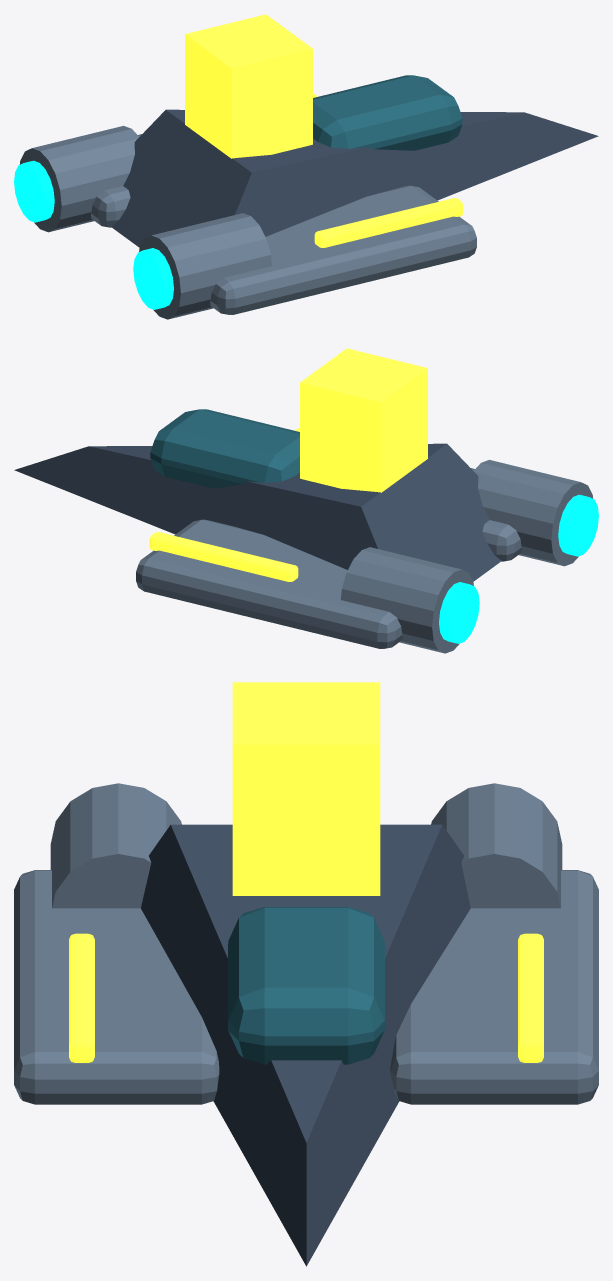
The model's file is ShuttleAmber.fbx.
The picture shows the model from 3 angles, top to bottom: view 1: azimuth 30°, elevation 25°; view 2: azimuth 150°, elevation 25°; view 3: azimuth 270°, elevation 25°; orthographic projection. The views are drawn at different scales.
Visible parts, largest first — view 1: Cargo shuttle hull.002, Cargo crystal.002, Swept wing.004, Cockpit.002, Ion engine.004, Ion engine.005, Cargo stripe.004, Ion exhaust.004, Ion exhaust.005, Swept wing.005; view 2: Cargo shuttle hull.002, Cargo crystal.002, Swept wing.005, Cockpit.002, Ion engine.005, Ion engine.004, Cargo stripe.005, Ion exhaust.005, Ion exhaust.004, Swept wing.004; view 3: Cargo shuttle hull.002, Swept wing.005, Swept wing.004, Cargo crystal.002, Cockpit.002, Ion engine.005, Ion engine.004, Cargo stripe.004, Cargo stripe.005.
Part boxes in pixels (x1,y1,x2,y2): Cargo shuttle hull.002: [111, 109, 598, 247]; Cargo crystal.002: [185, 14, 312, 158]; Swept wing.004: [210, 185, 476, 314]; Cockpit.002: [313, 75, 462, 150]; Ion engine.004: [139, 213, 272, 319]; Ion engine.005: [19, 125, 138, 232]; Cargo stripe.004: [314, 198, 463, 247]; Ion exhaust.004: [133, 248, 173, 309]; Ion exhaust.005: [14, 160, 54, 222]; Swept wing.005: [91, 134, 141, 227]; Cargo shuttle hull.002: [14, 443, 501, 581]; Cargo crystal.002: [300, 348, 427, 492]; Swept wing.005: [136, 519, 402, 648]; Cockpit.002: [150, 409, 299, 488]; Ion engine.005: [340, 547, 473, 653]; Ion engine.004: [474, 459, 593, 566]; Cargo stripe.005: [149, 532, 298, 581]; Ion exhaust.005: [439, 582, 479, 643]; Ion exhaust.004: [558, 494, 598, 556]; Swept wing.004: [471, 468, 521, 561]; Cargo shuttle hull.002: [141, 824, 470, 1266]; Swept wing.005: [390, 870, 598, 1104]; Swept wing.004: [14, 870, 219, 1104]; Cargo crystal.002: [232, 682, 380, 895]; Cockpit.002: [228, 907, 384, 1064]; Ion engine.005: [431, 783, 562, 908]; Ion engine.004: [50, 783, 181, 908]; Cargo stripe.004: [69, 933, 94, 1062]; Cargo stripe.005: [518, 933, 543, 1062].
Bounding box in the file's own units: 88.9 × 32.5 × 56.
